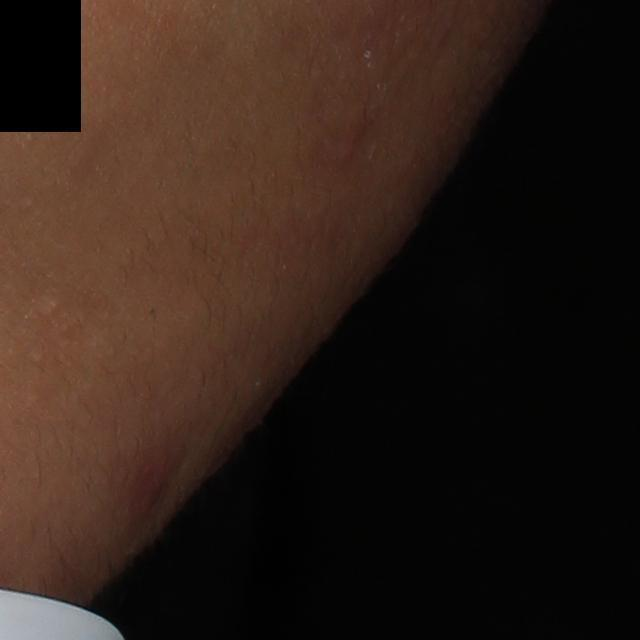papule: (130, 446, 182, 531)
